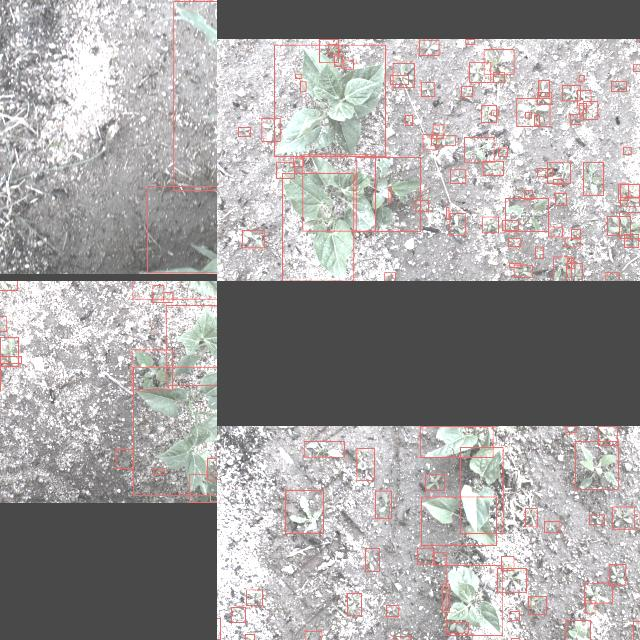crop: (274, 44, 386, 156), (133, 366, 217, 495), (282, 172, 354, 280), (146, 186, 217, 272), (302, 154, 376, 230), (166, 304, 217, 385), (446, 565, 502, 635), (421, 496, 497, 544), (460, 447, 502, 533), (420, 426, 492, 456), (132, 281, 217, 298), (189, 473, 217, 502)
weed: (356, 157, 420, 231), (576, 440, 618, 490), (132, 349, 172, 389), (285, 490, 323, 532), (506, 197, 548, 231), (516, 98, 550, 126), (484, 48, 514, 74), (464, 136, 494, 162), (498, 568, 526, 592), (583, 162, 603, 194), (304, 440, 344, 456), (356, 447, 374, 479), (584, 582, 612, 602), (0, 336, 18, 366), (393, 62, 415, 86), (565, 619, 590, 640), (620, 212, 640, 238), (548, 161, 570, 183), (612, 506, 634, 528), (554, 256, 572, 281), (375, 490, 391, 518), (469, 62, 491, 82), (262, 117, 280, 141), (320, 38, 338, 62), (242, 230, 264, 248), (608, 216, 630, 234), (608, 564, 626, 584), (598, 426, 618, 444), (450, 213, 466, 235), (116, 449, 134, 468), (347, 592, 361, 616), (528, 596, 546, 614), (365, 548, 379, 570), (566, 262, 582, 281), (482, 160, 503, 174), (277, 161, 295, 177), (562, 84, 580, 100), (582, 100, 598, 118), (426, 474, 444, 490), (419, 40, 439, 54), (620, 183, 640, 197), (482, 216, 498, 232), (246, 589, 262, 605), (417, 547, 433, 563), (432, 135, 456, 145), (482, 105, 496, 122), (450, 169, 466, 183), (577, 89, 591, 105), (232, 606, 246, 622), (442, 583, 450, 611), (207, 458, 217, 480), (446, 622, 468, 632), (514, 265, 532, 277), (152, 284, 164, 302), (525, 508, 537, 526), (421, 82, 435, 96), (423, 134, 437, 148), (538, 90, 552, 104), (625, 233, 639, 247), (538, 79, 550, 95), (544, 520, 560, 532), (390, 74, 408, 84), (619, 182, 629, 200), (620, 197, 640, 206), (304, 630, 321, 640), (502, 556, 514, 570), (502, 220, 518, 230), (432, 124, 443, 138), (0, 355, 21, 362), (416, 200, 428, 212), (387, 604, 399, 616), (434, 552, 446, 564), (549, 226, 563, 236), (612, 81, 626, 91), (590, 514, 604, 524), (633, 621, 640, 640), (564, 238, 580, 246), (0, 281, 16, 289), (605, 272, 619, 281), (238, 126, 250, 136), (556, 193, 566, 205), (585, 600, 595, 612), (508, 238, 522, 246), (538, 168, 552, 176), (462, 85, 472, 96), (344, 58, 354, 68), (329, 43, 339, 53), (494, 72, 504, 82), (570, 114, 580, 124), (510, 610, 520, 620), (384, 272, 395, 281), (535, 246, 543, 258), (294, 157, 304, 166), (0, 315, 6, 330), (334, 55, 342, 65), (498, 147, 508, 155), (524, 190, 532, 200), (164, 292, 172, 302), (393, 636, 410, 640), (388, 186, 392, 202), (572, 230, 580, 238), (623, 146, 631, 154), (406, 114, 412, 124), (300, 81, 306, 91), (553, 178, 563, 184), (534, 114, 540, 124), (568, 258, 574, 268), (580, 102, 586, 112), (154, 468, 164, 474), (245, 634, 255, 640), (566, 426, 576, 432), (633, 63, 640, 70), (466, 38, 474, 44), (578, 74, 584, 82), (510, 263, 520, 267), (296, 72, 302, 78), (525, 111, 531, 117), (492, 110, 498, 114), (446, 207, 448, 219)
